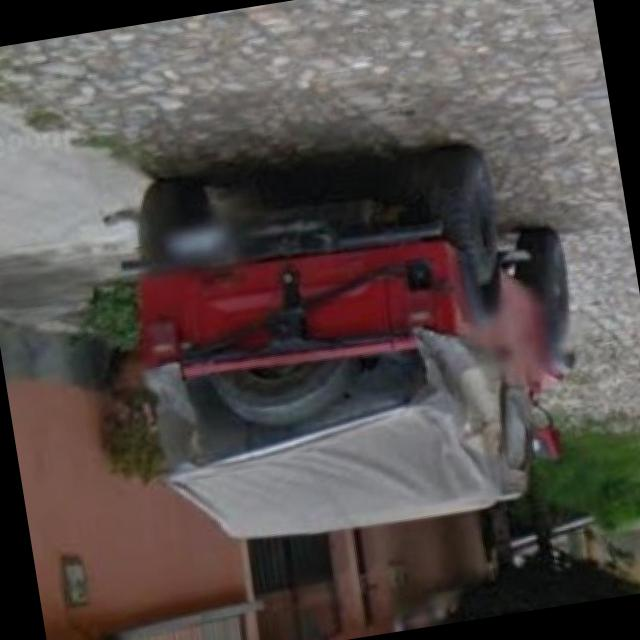car: (111, 132, 608, 568)
